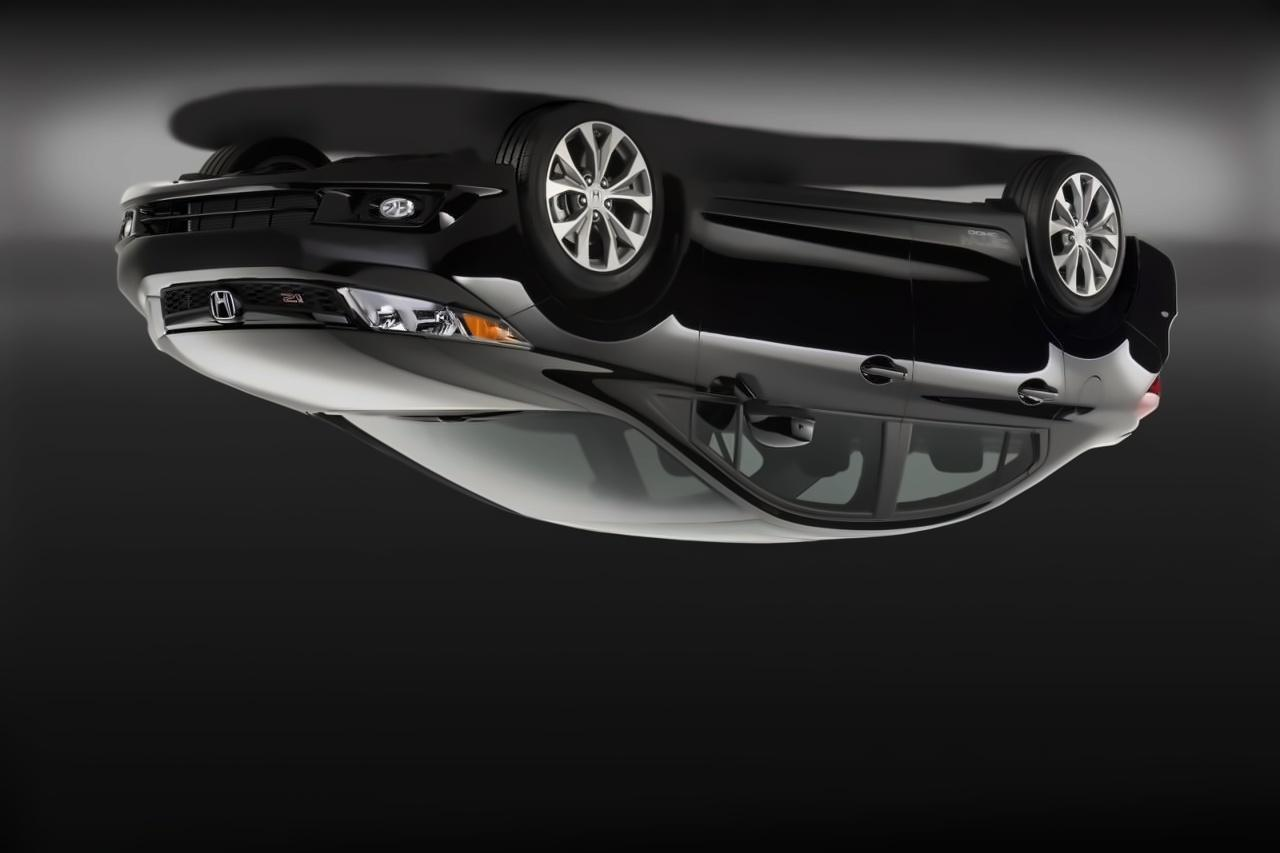Car hood: (139, 323, 607, 417)
Driver-s door - -F-R-: (686, 193, 902, 537)
Fender - -F-R-: (503, 194, 714, 387)
Fender - -R-R-: (1011, 193, 1155, 441)
Front bumper: (76, 146, 535, 293)
Headlight - -R-: (326, 276, 535, 356)
Passenger-s door - -R-R-: (904, 211, 1072, 539)
Rear bumper: (1107, 226, 1193, 374)
Rear light - -R-: (1130, 360, 1173, 434)
Side bumper - -R-: (659, 176, 1032, 250)
Side mirror - -R-: (720, 377, 830, 454)
